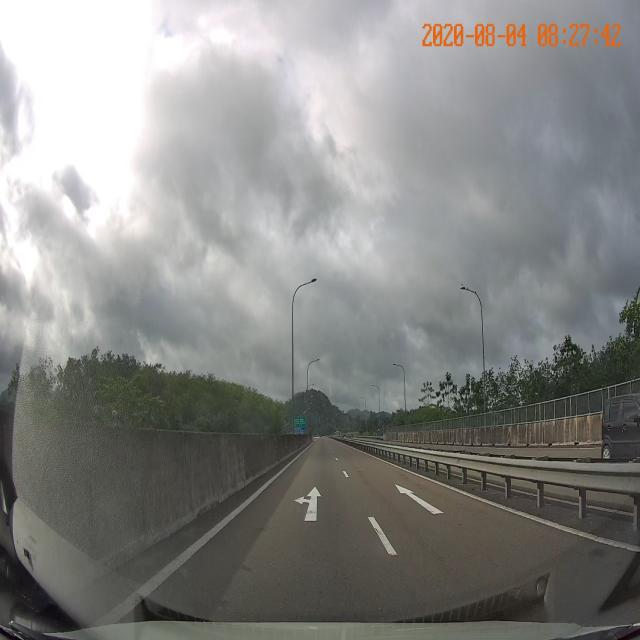forward_lft: (199, 480, 401, 557)
